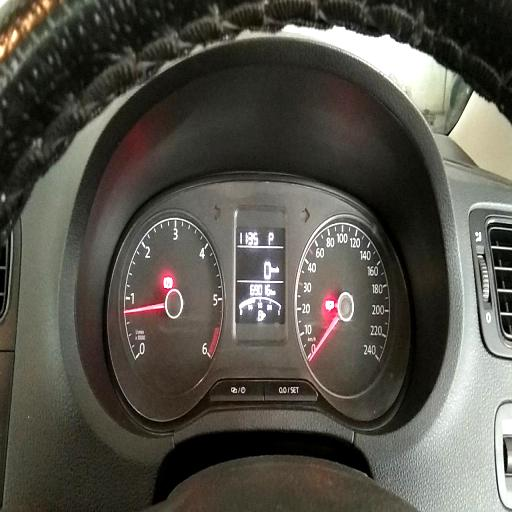tachometer: (117, 207, 226, 390)
